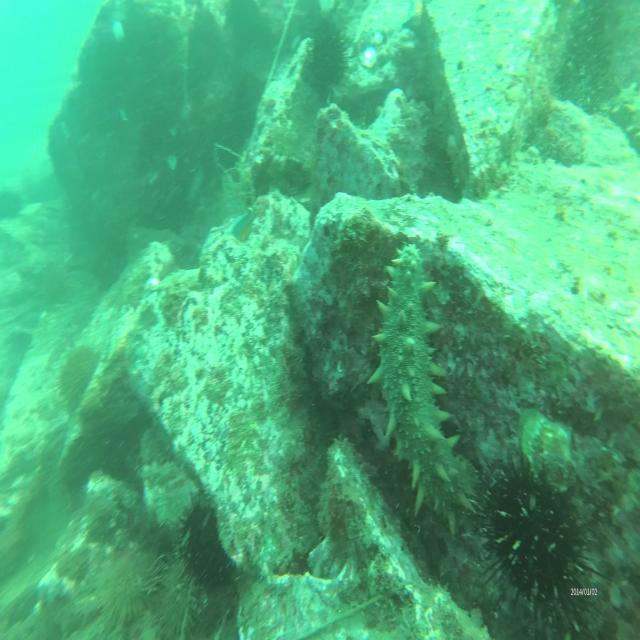echinus: (474, 448, 608, 633), (87, 543, 177, 639), (175, 494, 241, 596), (150, 554, 204, 630), (50, 346, 102, 414)
holothurian: (369, 245, 482, 532)
starfish: (139, 270, 161, 294)
